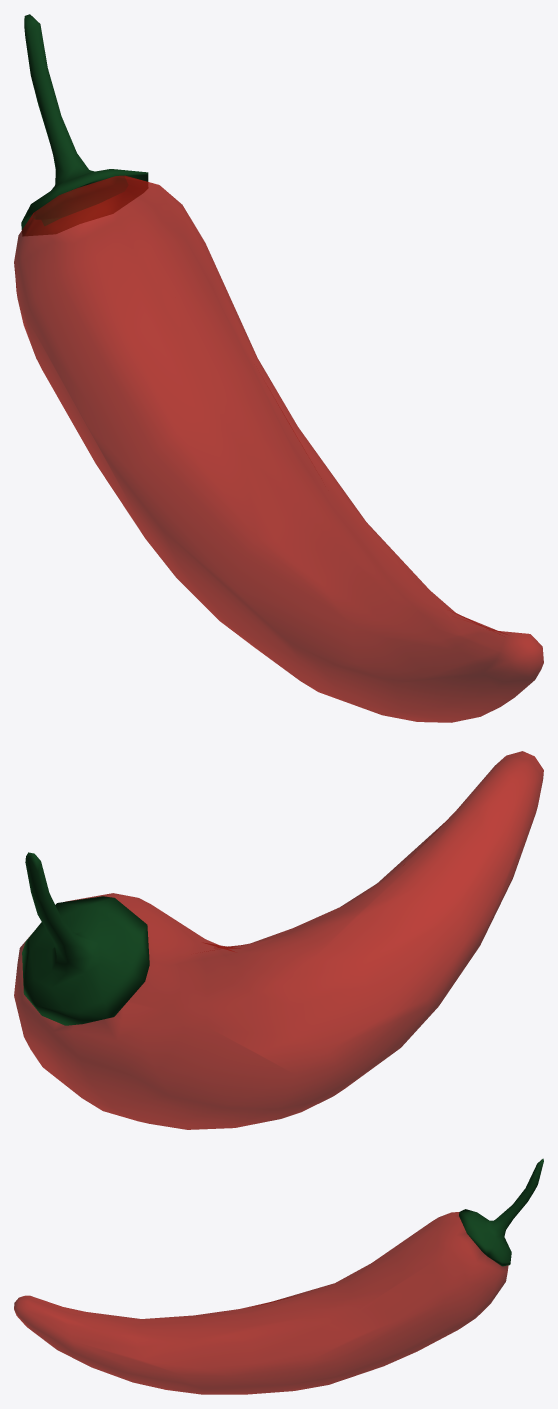
The model's file is Papper.fbx.
3 views of the same model, one above another, from view 1: azimuth 30°, elevation 25°; view 2: azimuth 150°, elevation 25°; view 3: azimuth 270°, elevation 25° (orthographic). The views are drawn at different scales.
Visible parts, largest first — view 1: RedPepper; view 2: RedPepper; view 3: RedPepper.
Boxes of the visible parts, <box> form: RedPepper: <box>14,14,543,722</box>; RedPepper: <box>14,751,543,1129</box>; RedPepper: <box>14,1158,543,1394</box>.
Bounding box in the file's own units: 2.41 × 5.67 × 11.71.
